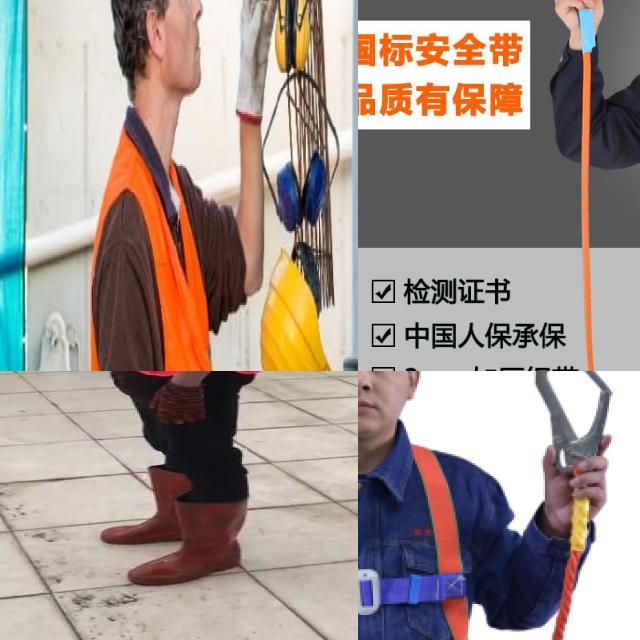Ear-protection: (300, 146, 332, 229), (272, 155, 300, 227), (292, 0, 310, 72), (273, 0, 291, 68)
Harness: (358, 443, 484, 640)
boots: (130, 501, 249, 585), (104, 467, 190, 544)
hand_glove: (233, 0, 276, 117)
head_helmet: (256, 235, 346, 371)
person: (93, 0, 272, 371), (84, 371, 286, 587)
vest: (95, 109, 225, 371)
